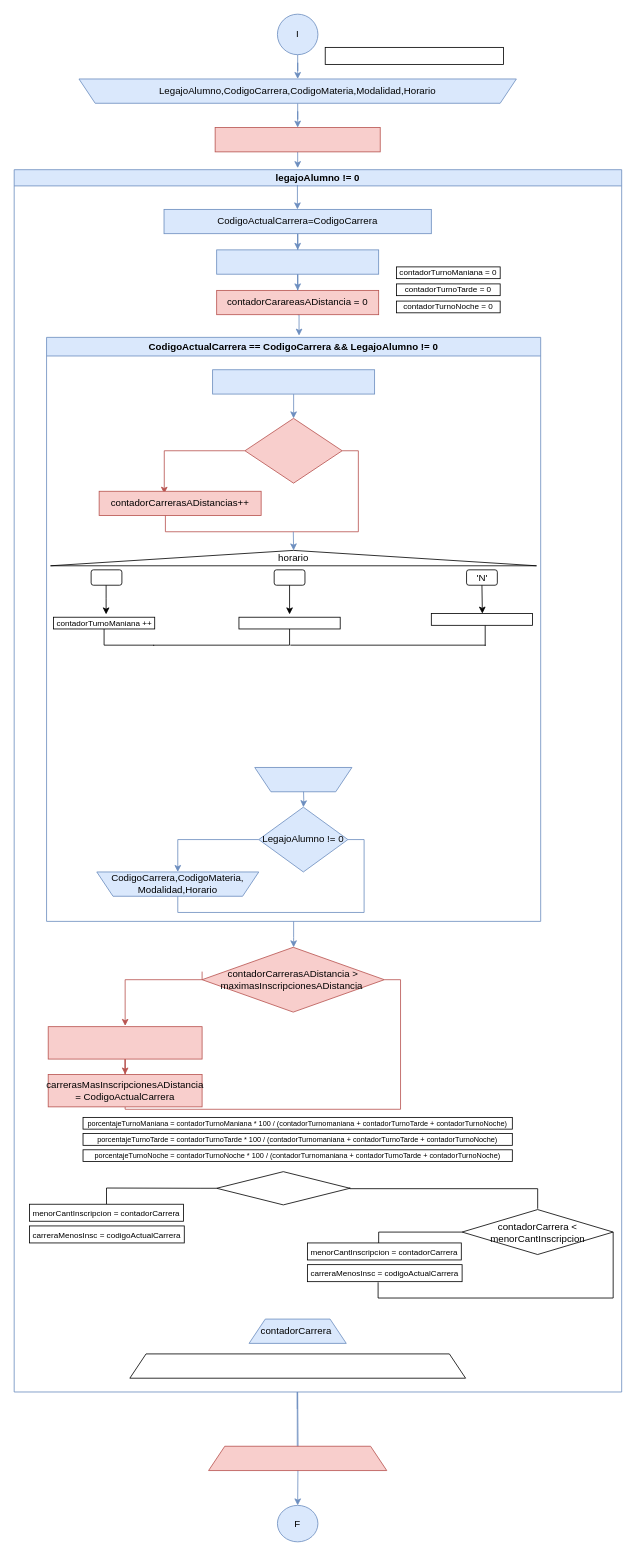
Image size: 636x1556. Some labels were removed from this diagram. Each missing label, with the centre of its shape:
"'M'" belongs at point (106, 577).
"'T'" belongs at point (289, 577).
"carrerasMasInscripcionesADistancia" belongs at point (297, 1458).
"contadorCarrera ++" belongs at point (293, 381).
"contadorCarrera= 0" belongs at point (297, 261).
"contadorTurnoNoche ++" belongs at point (482, 619).
"contadorTurnoTarde ++" belongs at point (289, 622).
"LegajoAlumno" belongs at point (303, 779).
"maximasInscripcionesADistancia = 0" belongs at point (297, 139).
"maximasInscripcionesADistancia = contadorCarrerasADistancia" belongs at point (124, 1042).
"menorCantInscripcion = -1" belongs at point (413, 55).
"menorCantInscripcion == -1" belongs at point (283, 1188).
"Modalidad == 'D'" belongs at point (293, 450).
"porcentajeTurnoManiana, porcentajeTurnoTarde, porcentajeTurnoNoche" belongs at point (297, 1365).
